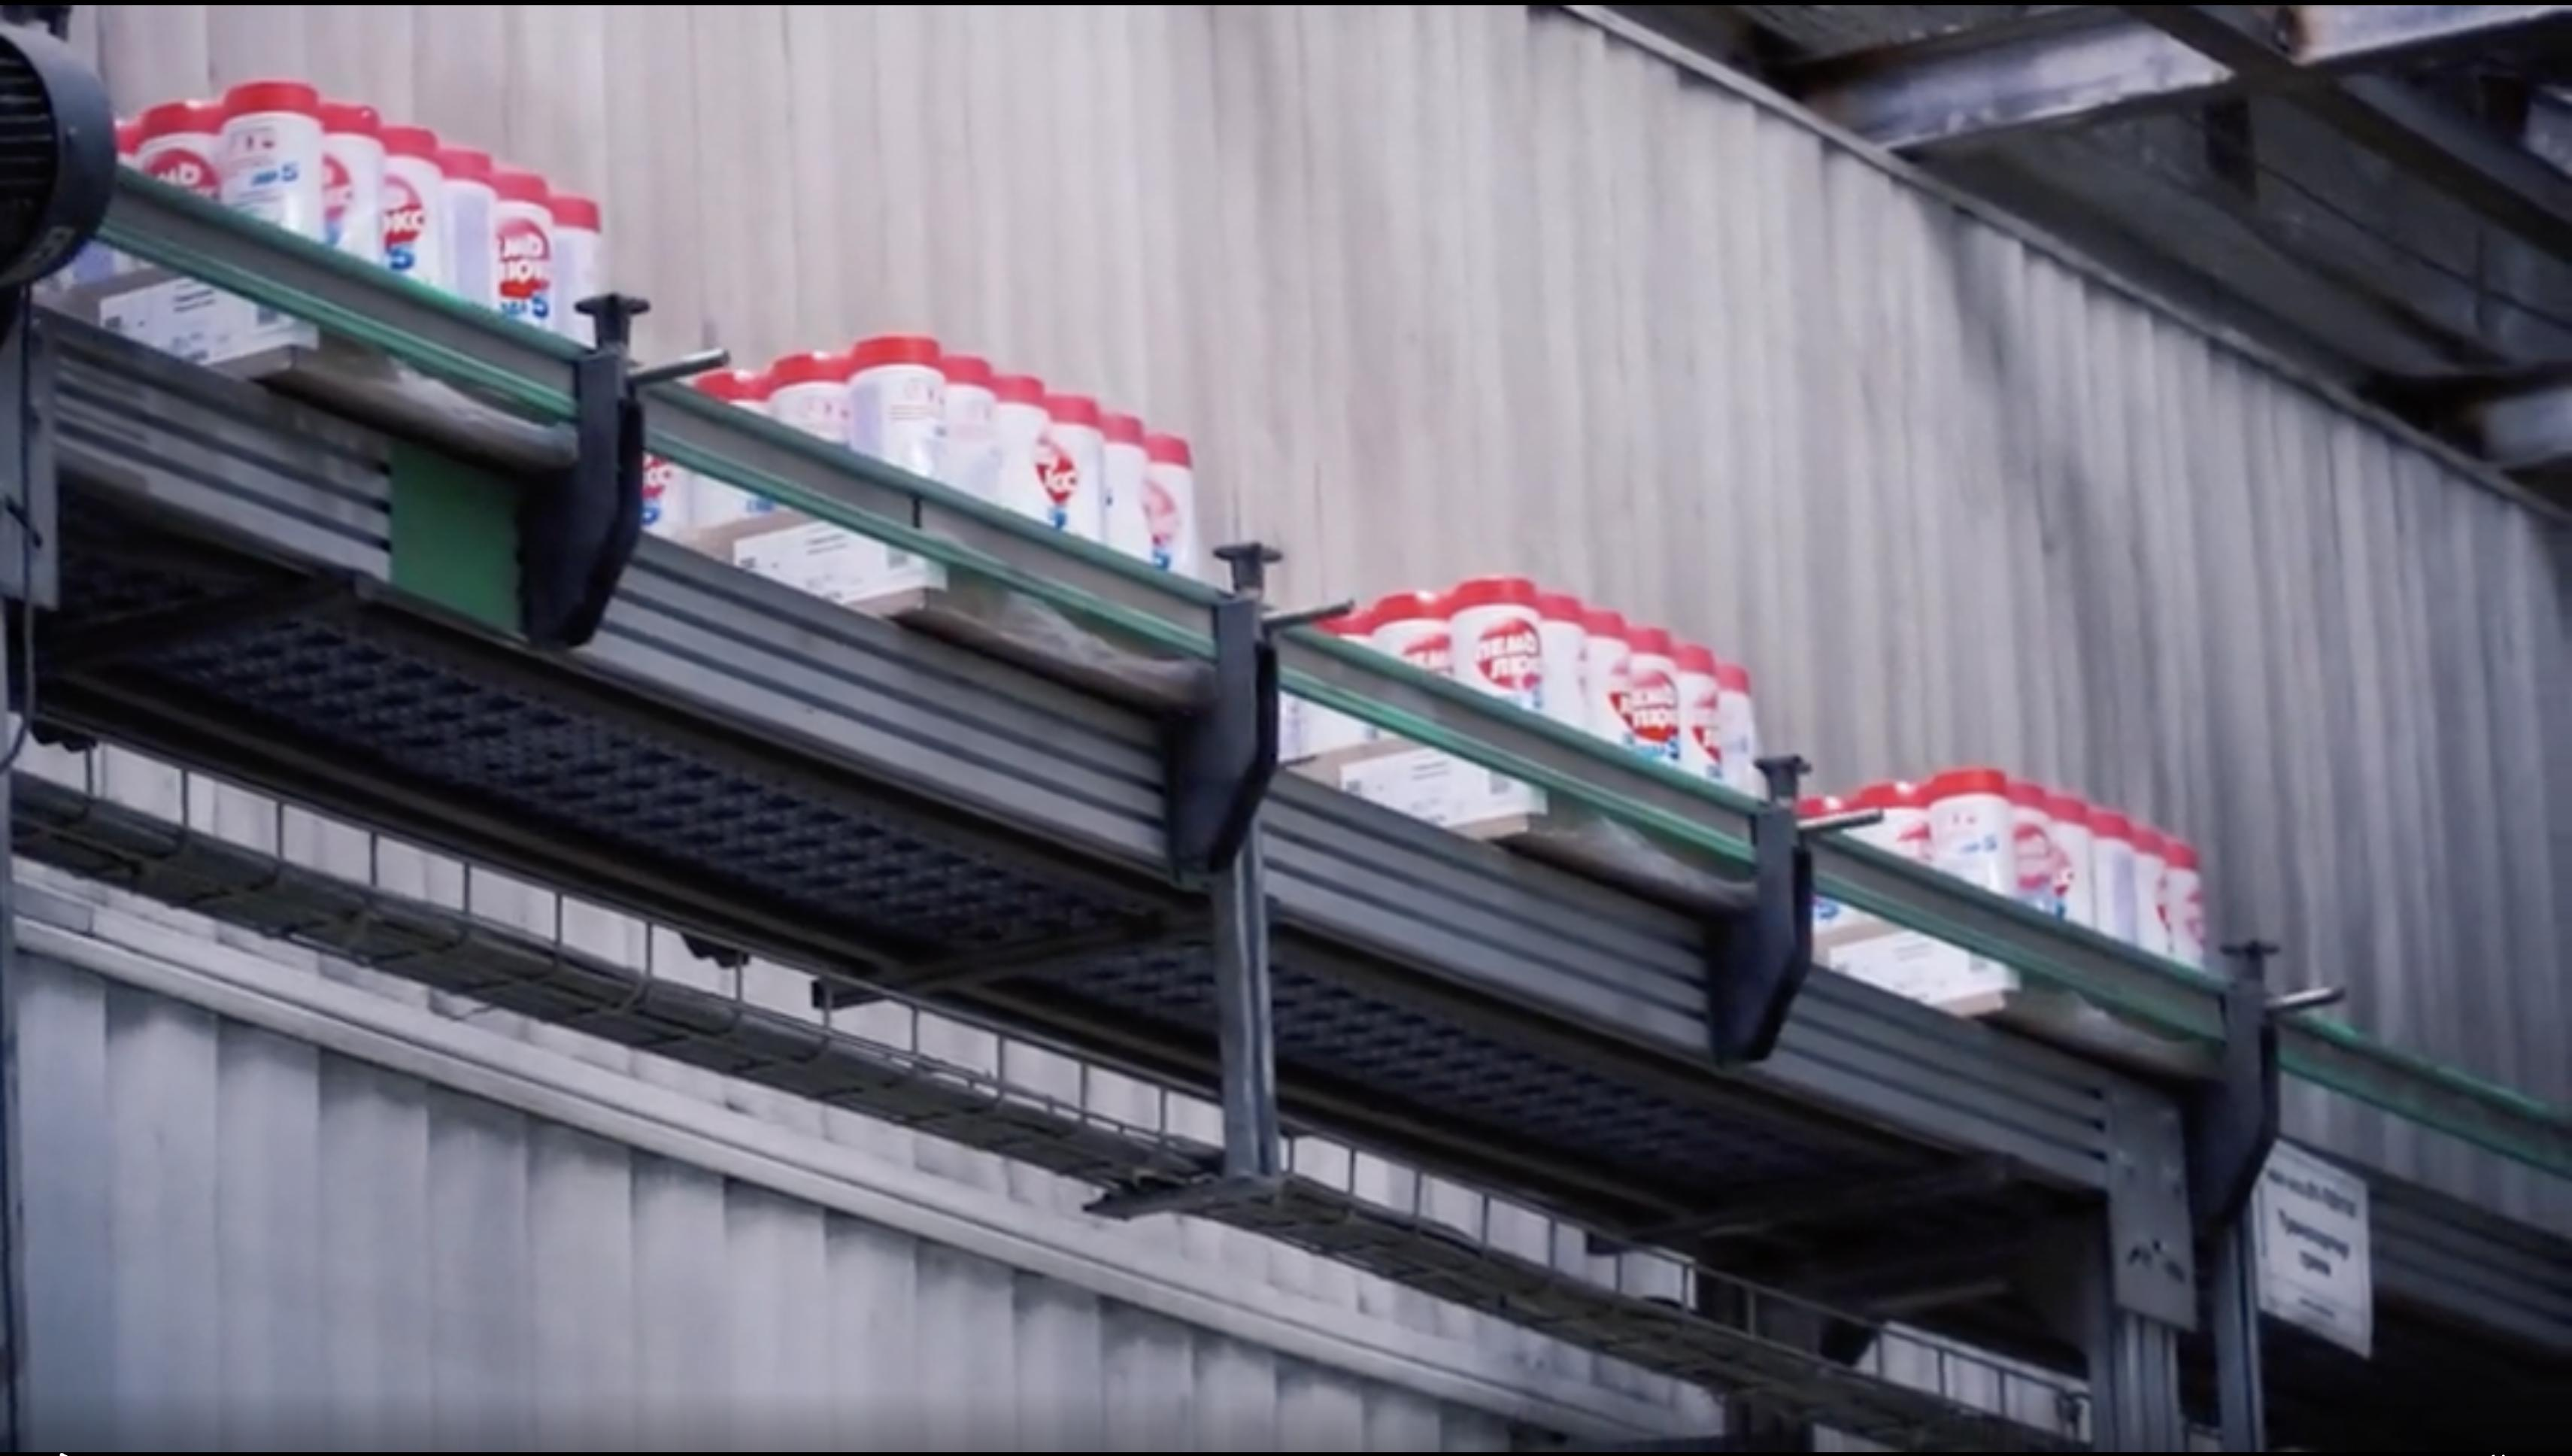pallet: (636, 366, 1228, 716), (127, 87, 609, 468), (1258, 578, 1775, 922), (1809, 765, 2243, 1094)
